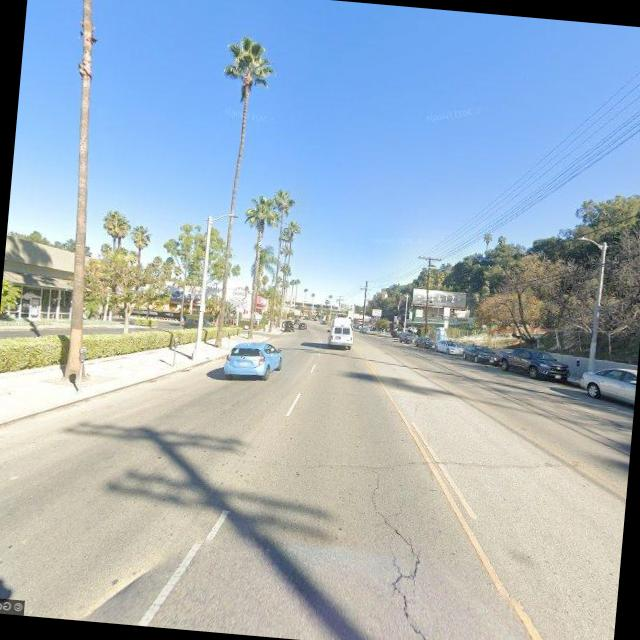crack: (305, 431, 612, 498), (352, 464, 442, 640)
